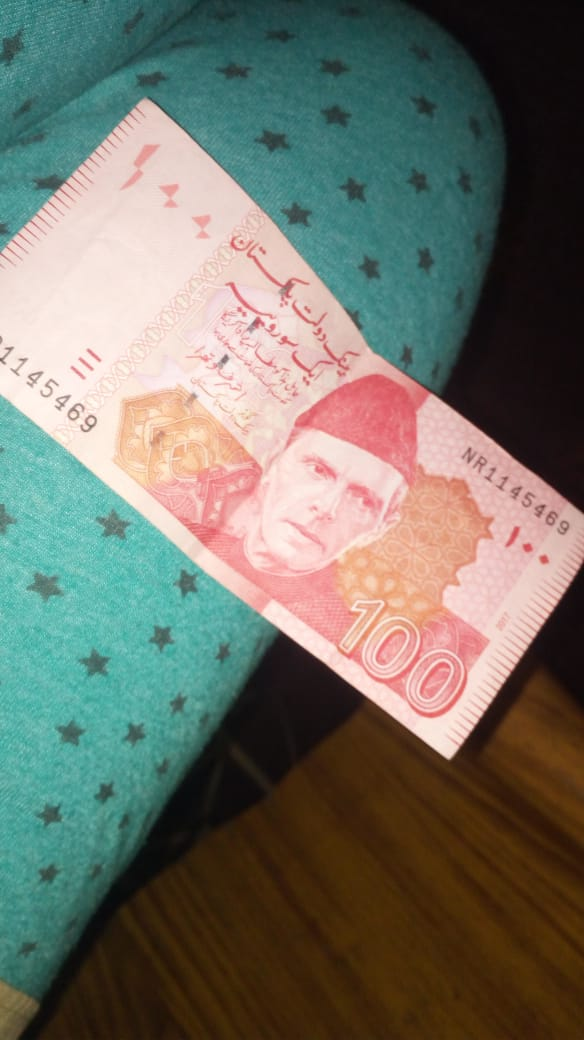100 rupee: (15, 89, 582, 743)
